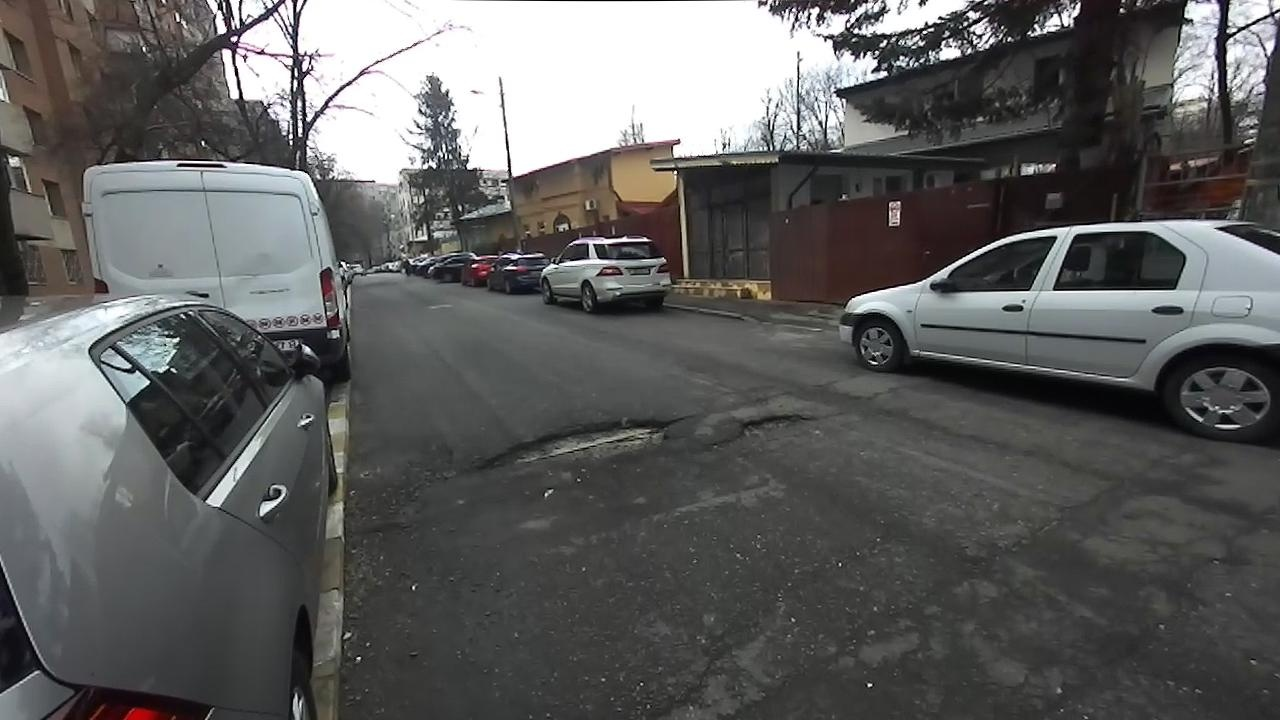pothole: (462, 411, 694, 479), (702, 408, 822, 452)
